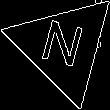N_S: (38, 17, 89, 76)
